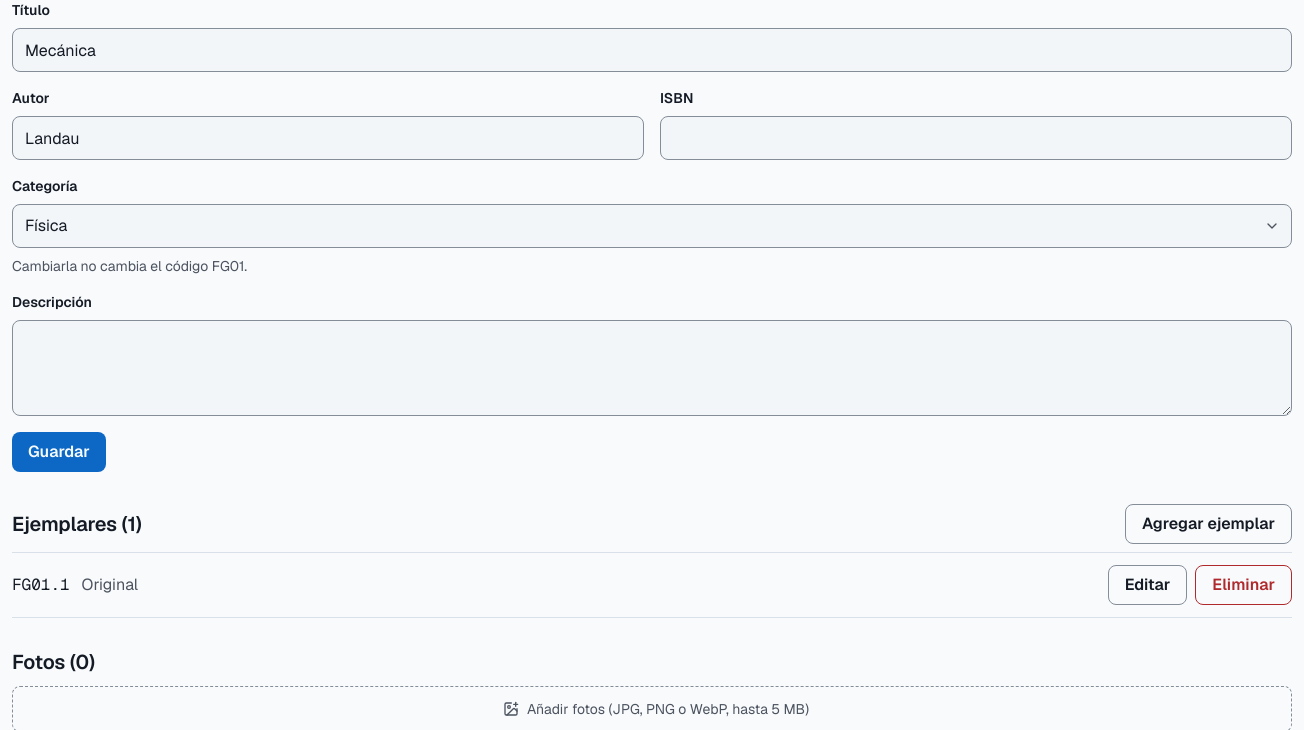
BookEditor › shows a refused copy change inside the copy's form
The width and height of the screenshot is (1304, 730).
Click the button "Editar" at [1148, 585], box [1108, 565, 1187, 605]
(page scrolled)
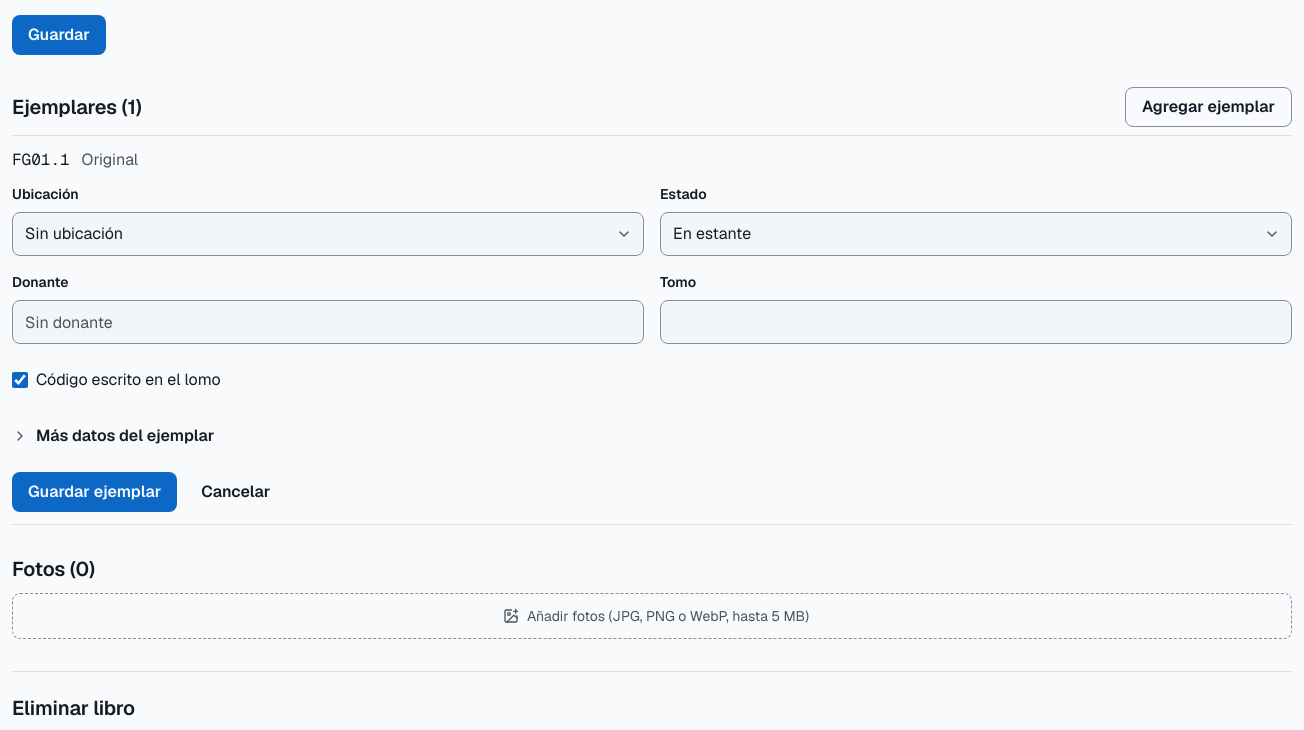
Click the button "Guardar ejemplar" at [95, 492], box [12, 472, 177, 512]
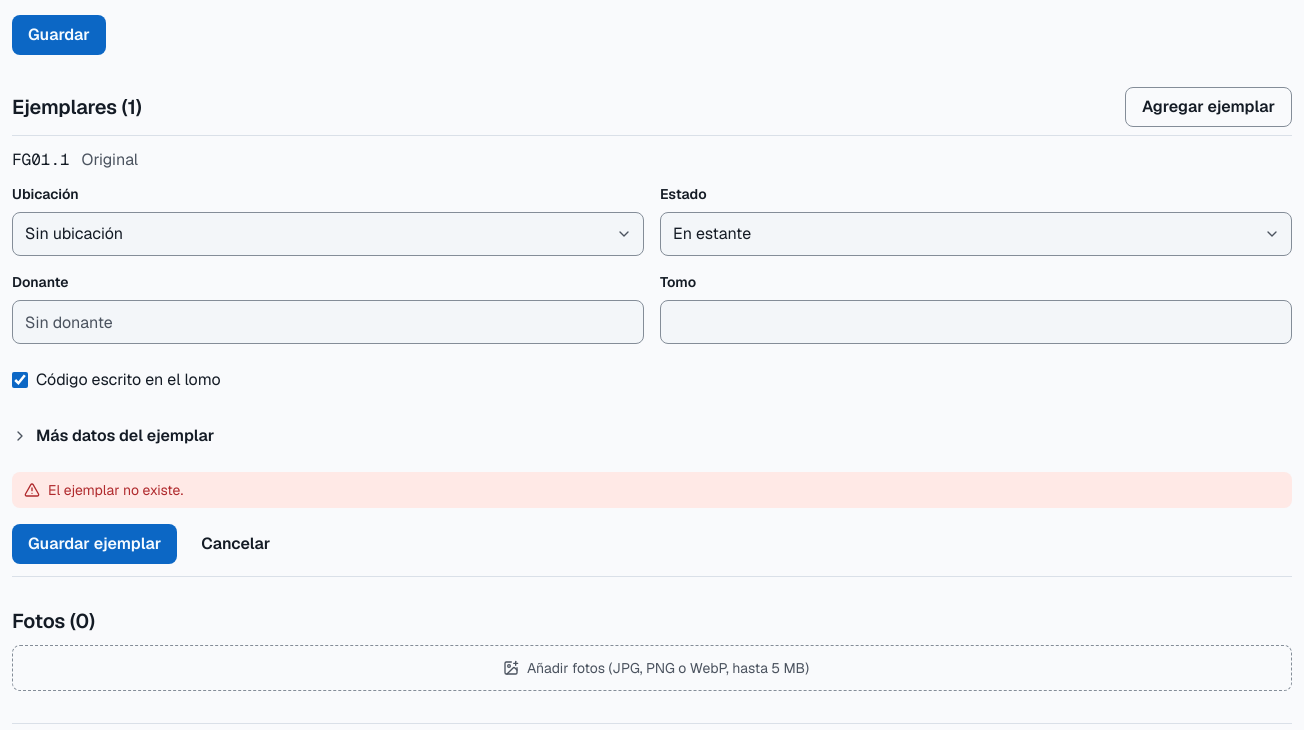
Now the button "Guardar ejemplar" is shown, box [12, 524, 177, 564]
Now the message reads "El ejemplar no existe.", box [48, 481, 183, 499]
